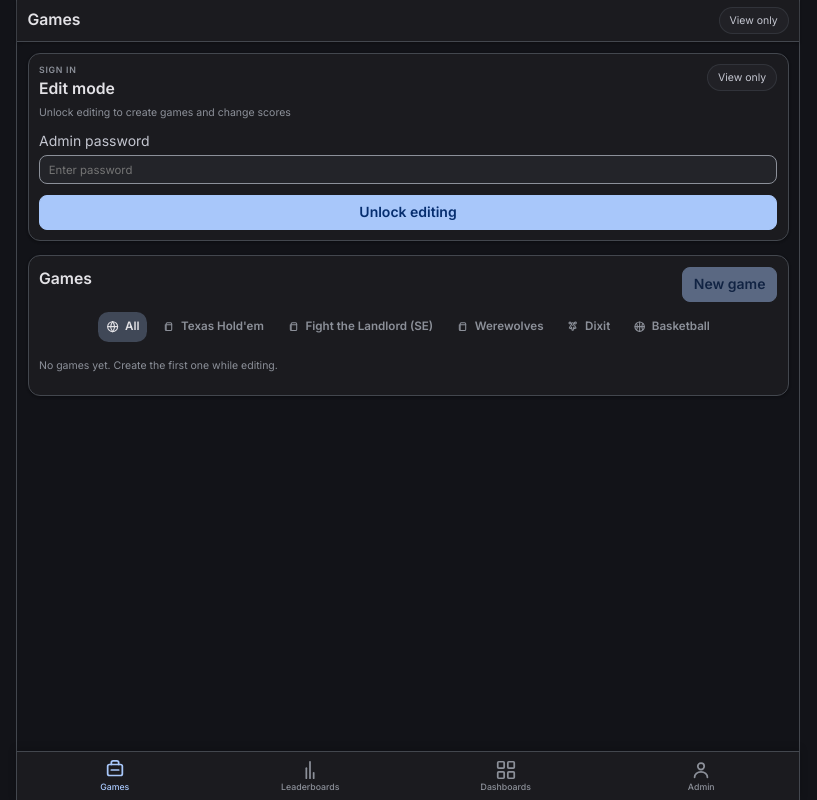
Scenario: app shell › enables admin controls after verified admin login
Type "super-secret" into the password field labelled "Admin password".
click(408, 170); type("super-secret")  # box [39,155,777,184]
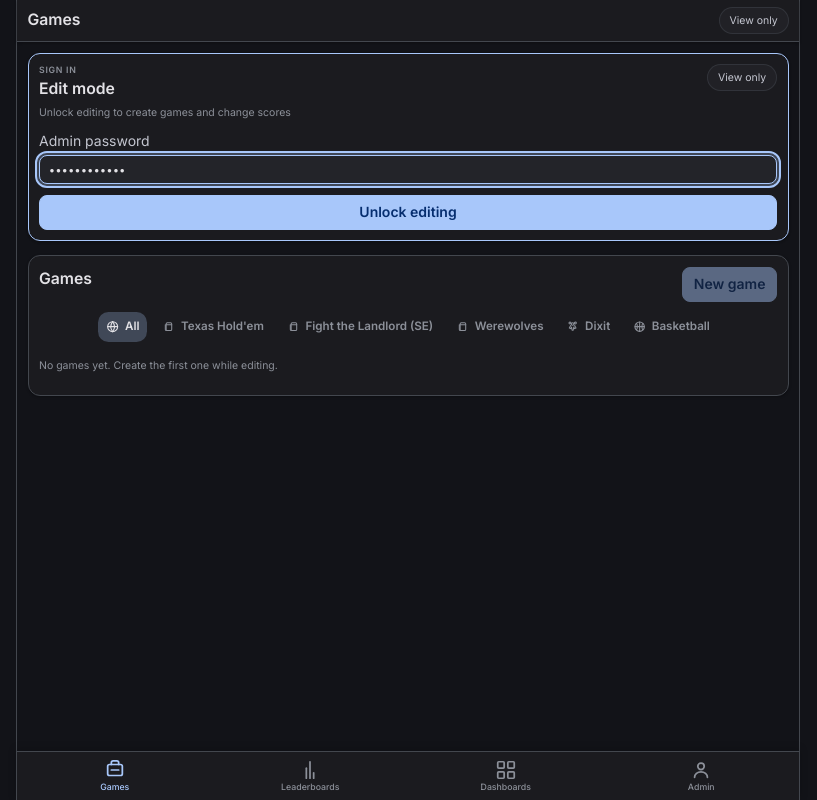
Click the button "Unlock editing".
click(408, 212)  # box [39,195,777,230]
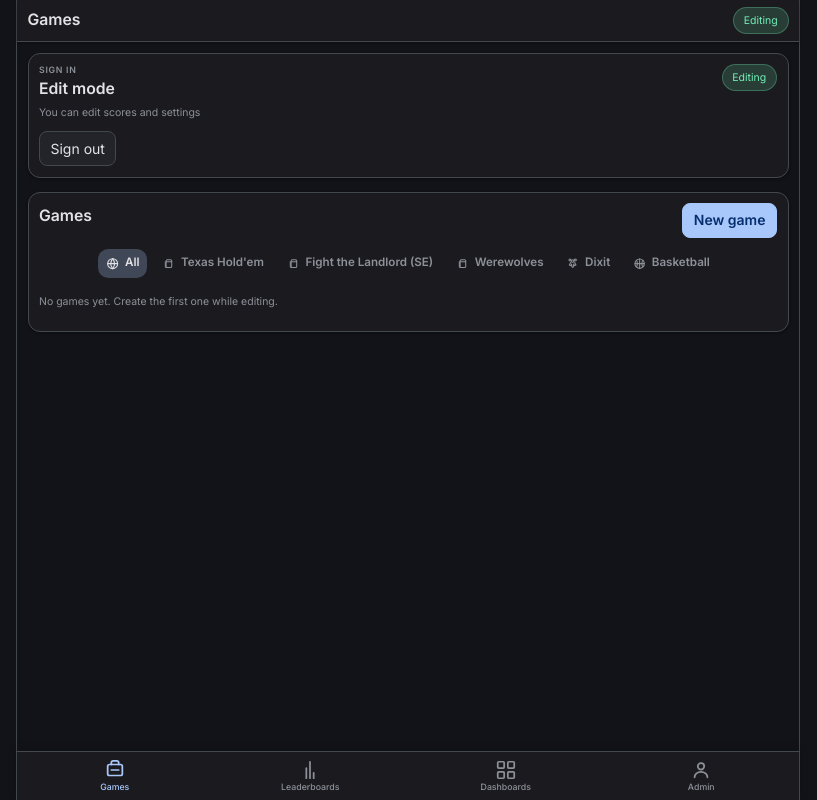
Result: the button with aria-label "Create new game" is enabled at [682,203,777,238]
